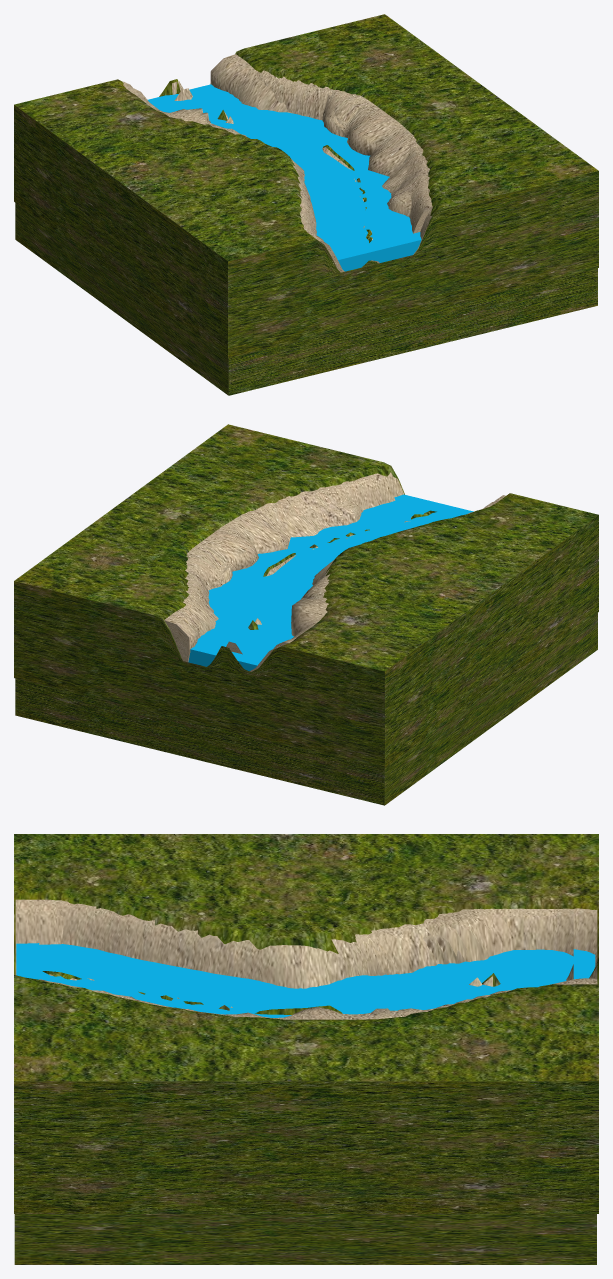
The model's file is 顺直微弯型河床.gltf.
3 views of the same model, one above another, from view 1: azimuth 30°, elevation 25°; view 2: azimuth 150°, elevation 25°; view 3: azimuth 270°, elevation 25° (orthographic). The views are drawn at different scales.
Visible parts, largest first — view 1: node_Box002_-7432, node_Cube (1)_-23018, node_Cube_-21088, node_Box001_-7430, node_Box004_-7434; view 2: node_Box002_-7432, node_Cube (1)_-23018, node_Cube_-21088, node_Box001_-7430, node_Box004_-7434; view 3: node_Box002_-7432, node_Cube (1)_-23018, node_Box001_-7430, node_Cube_-21088, node_Box004_-7434.
Part boxes in pixels (x1,y1,x2,y2): node_Box002_-7432: (14,14,598,358); node_Cube (1)_-23018: (15,203,597,395); node_Cube_-21088: (147,84,421,271); node_Box001_-7430: (122,54,432,272); node_Box004_-7434: (128,72,432,241); node_Box002_-7432: (14,424,598,768); node_Cube (1)_-23018: (15,613,597,805); node_Cube_-21088: (188,494,473,671); node_Box001_-7430: (164,472,505,671); node_Box004_-7434: (186,473,492,654); node_Box002_-7432: (14,834,598,1213); node_Cube (1)_-23018: (14,1214,596,1264); node_Box001_-7430: (15,899,597,1019); node_Cube_-21088: (16,943,595,1017); node_Box004_-7434: (39,903,573,1014).
Size of the model in its own units: 2.58 by 0.8979 by 2.58.
